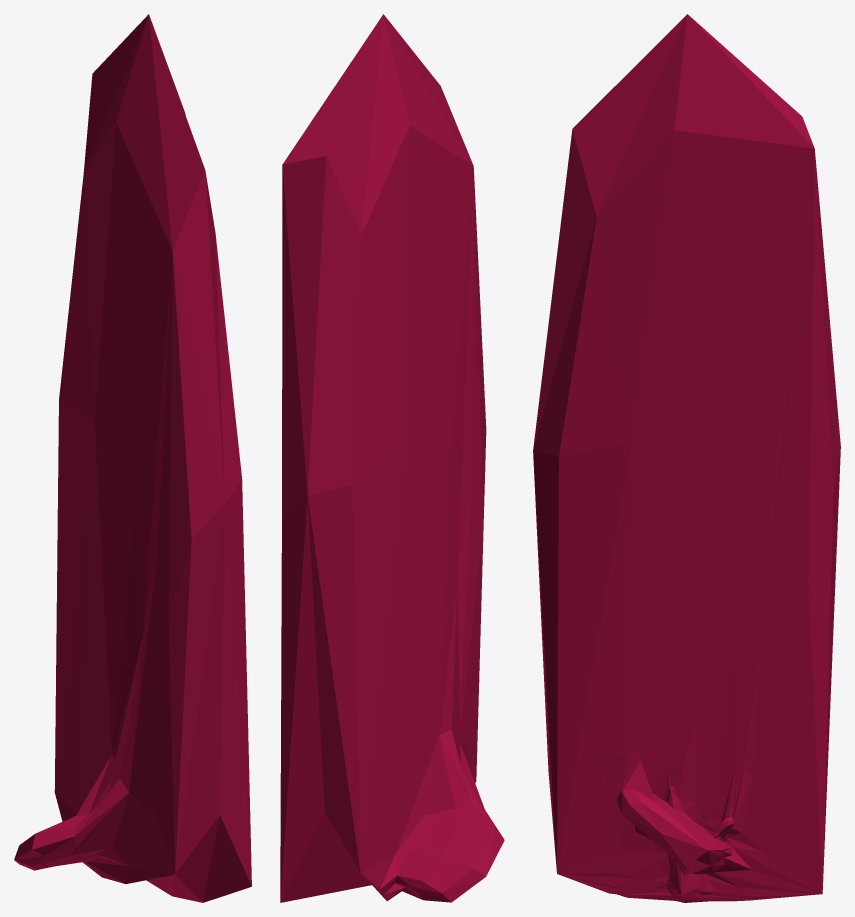
3 views of the same model, side by side, from view 1: azimuth 30°, elevation 25°; view 2: azimuth 150°, elevation 25°; view 3: azimuth 270°, elevation 25° (orthographic).
Parts seen in each view (by area): view 1: 895_Cube.3613; view 2: 895_Cube.3613; view 3: 895_Cube.3613.
Boxes of the visible parts, bbox=[...] form: 895_Cube.3613: bbox=[14, 14, 251, 902]; 895_Cube.3613: bbox=[280, 14, 504, 902]; 895_Cube.3613: bbox=[533, 14, 840, 902].
Size of the model in its own units: 2.92 by 11.97 by 3.83.
